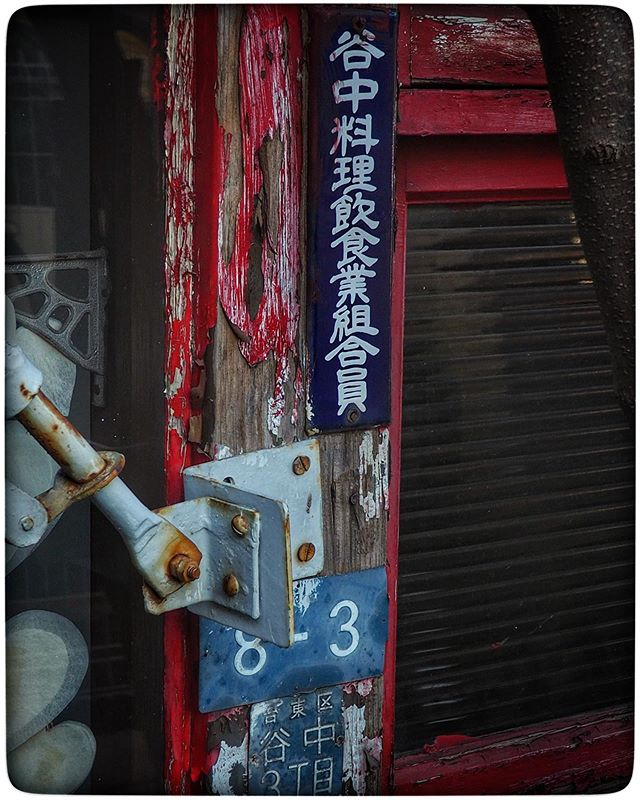sign: (301, 1, 398, 426), (190, 587, 389, 719), (234, 702, 356, 800)
